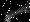person: (1, 1, 30, 22)
